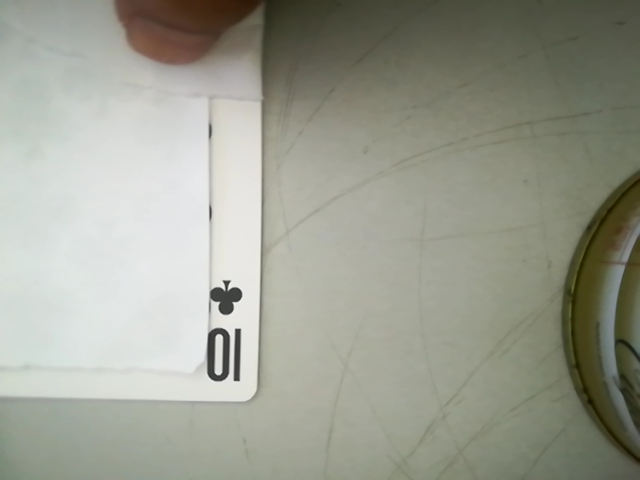mh 10: (193, 268, 264, 394)
